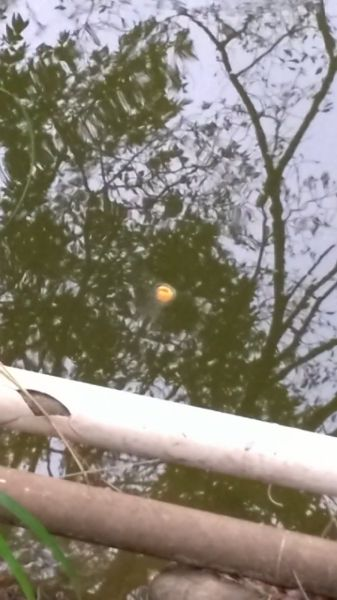eggs: (151, 283, 178, 304)
